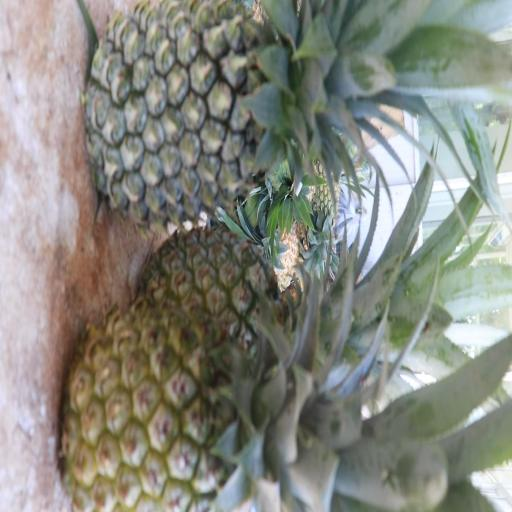------------------------------: (58, 294, 390, 512), (134, 221, 359, 382)
